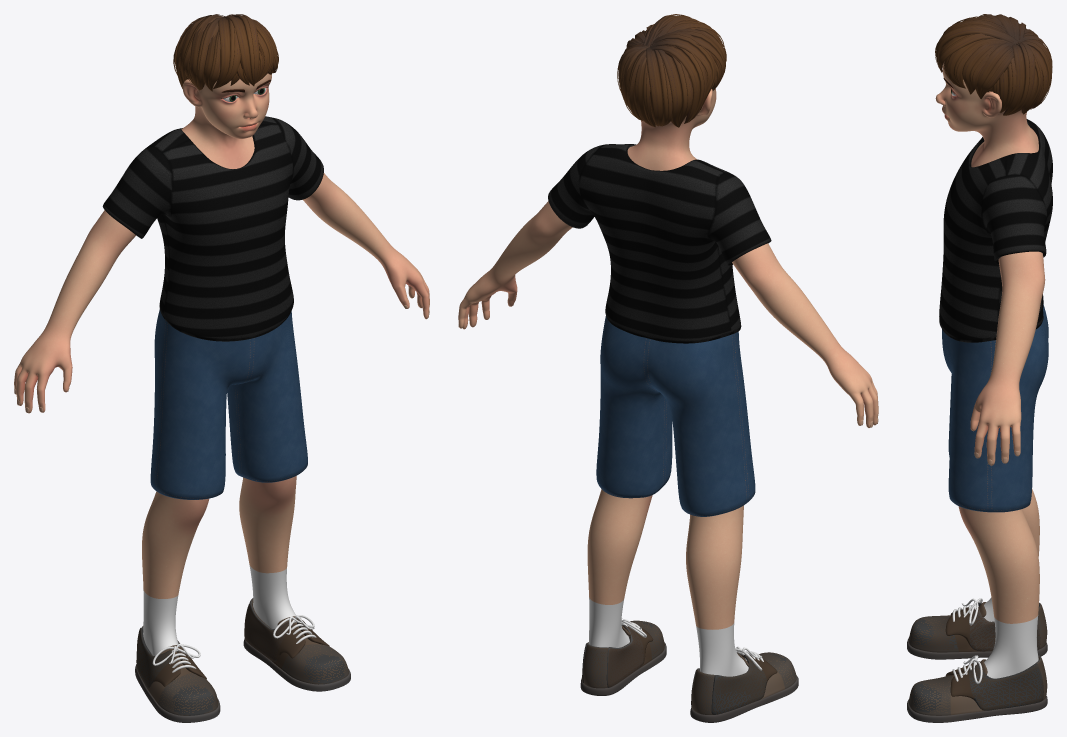
Rendered from Evan.fbx.
3 views of the same model, side by side, from view 1: azimuth 30°, elevation 25°; view 2: azimuth 150°, elevation 25°; view 3: azimuth 270°, elevation 25° (orthographic).
Visible parts, largest first — view 1: TShirt_Cube.018, Shorts_Cube.017, Legs_Cube.004, Shoes_Cube.019, ArmR_Cube.002, MaleBase_Cube.005, ArmL_Cube.003, Hair1_NurbsPath.002, Hair2_NurbsPath.001, Laces_BezierCurve.001; view 2: TShirt_Cube.018, Shorts_Cube.017, Legs_Cube.004, Shoes_Cube.019, Hair1_NurbsPath.002, ArmR_Cube.002, ArmL_Cube.003, MaleBase_Cube.005, Hair3_NurbsPath.003; view 3: TShirt_Cube.018, Shorts_Cube.017, Shoes_Cube.019, Legs_Cube.004, ArmL_Cube.003, Hair3_NurbsPath.003, MaleBase_Cube.005, Hair2_NurbsPath.001, Hair1_NurbsPath.002, Laces_BezierCurve.001.
Part boxes in pixels (x1=…): TShirt_Cube.018: x1=102, y1=116, x2=323, y2=341; Shorts_Cube.017: x1=150, y1=309, x2=307, y2=499; Legs_Cube.004: x1=142, y1=476, x2=296, y2=655; Shoes_Cube.019: x1=135, y1=598, x2=350, y2=722; ArmR_Cube.002: x1=14, y1=210, x2=135, y2=413; MaleBase_Cube.005: x1=181, y1=73, x2=271, y2=168; ArmL_Cube.003: x1=303, y1=173, x2=429, y2=319; Hair1_NurbsPath.002: x1=173, y1=14, x2=272, y2=91; Hair2_NurbsPath.001: x1=224, y1=14, x2=274, y2=86; Laces_BezierCurve.001: x1=152, y1=615, x2=316, y2=672; TShirt_Cube.018: x1=548, y1=144, x2=771, y2=343; Shorts_Cube.017: x1=596, y1=316, x2=755, y2=516; Legs_Cube.004: x1=587, y1=489, x2=748, y2=676; Shoes_Cube.019: x1=580, y1=620, x2=798, y2=722; Hair1_NurbsPath.002: x1=629, y1=19, x2=726, y2=127; ArmR_Cube.002: x1=458, y1=243, x2=878, y2=427; ArmL_Cube.003: x1=458, y1=201, x2=572, y2=329; MaleBase_Cube.005: x1=627, y1=89, x2=716, y2=170; Hair3_NurbsPath.003: x1=617, y1=24, x2=678, y2=127; TShirt_Cube.018: x1=939, y1=119, x2=1052, y2=342; Shorts_Cube.017: x1=942, y1=304, x2=1048, y2=512; Shoes_Cube.019: x1=907, y1=602, x2=1047, y2=722; Legs_Cube.004: x1=958, y1=489, x2=1039, y2=678; ArmL_Cube.003: x1=970, y1=251, x2=1045, y2=465; Hair3_NurbsPath.003: x1=947, y1=29, x2=1051, y2=115; MaleBase_Cube.005: x1=935, y1=61, x2=1038, y2=167; Hair2_NurbsPath.001: x1=935, y1=19, x2=1013, y2=72; Hair1_NurbsPath.002: x1=943, y1=14, x2=1052, y2=106; Laces_BezierCurve.001: x1=952, y1=598, x2=982, y2=683.
Size of the model in its own units: 4030 by 6234 by 1251.
